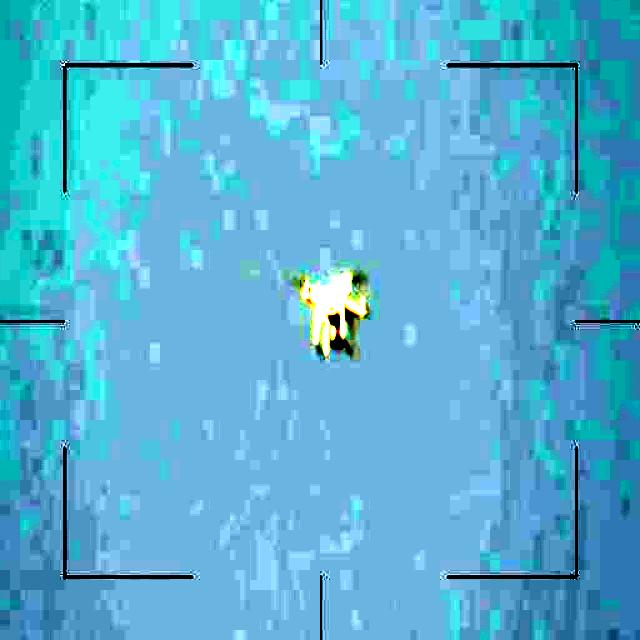bird: (292, 266, 375, 360)
